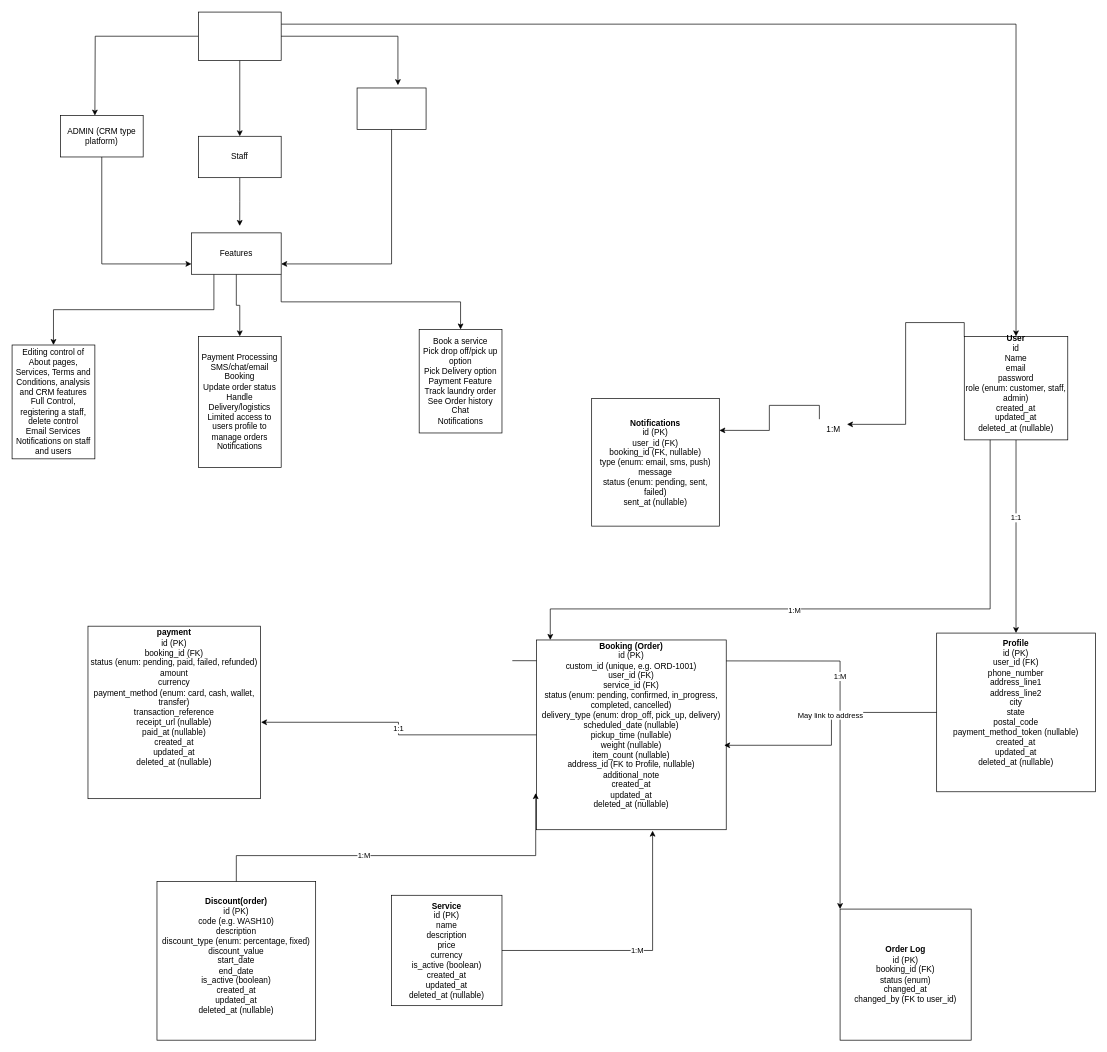
The diagram is 1107 pixels wide and 1052 high, and some of its shapes have lost their labels. Here are the shapes that lost their labels. From the top down, the centre of each, then its label:
At pixel 239 35: "Users".
At pixel 391 108: "Client".
